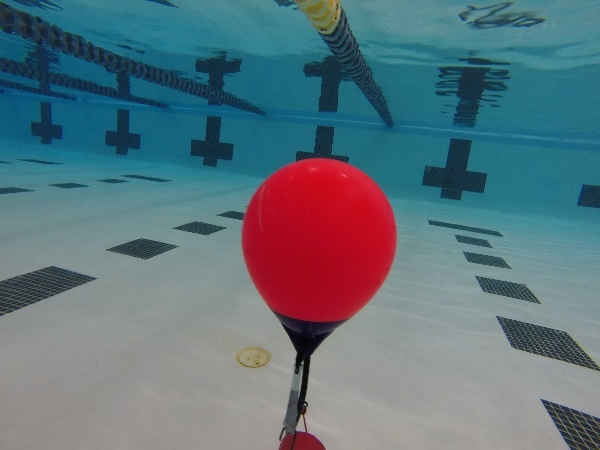buoy_red: (238, 154, 400, 360)
